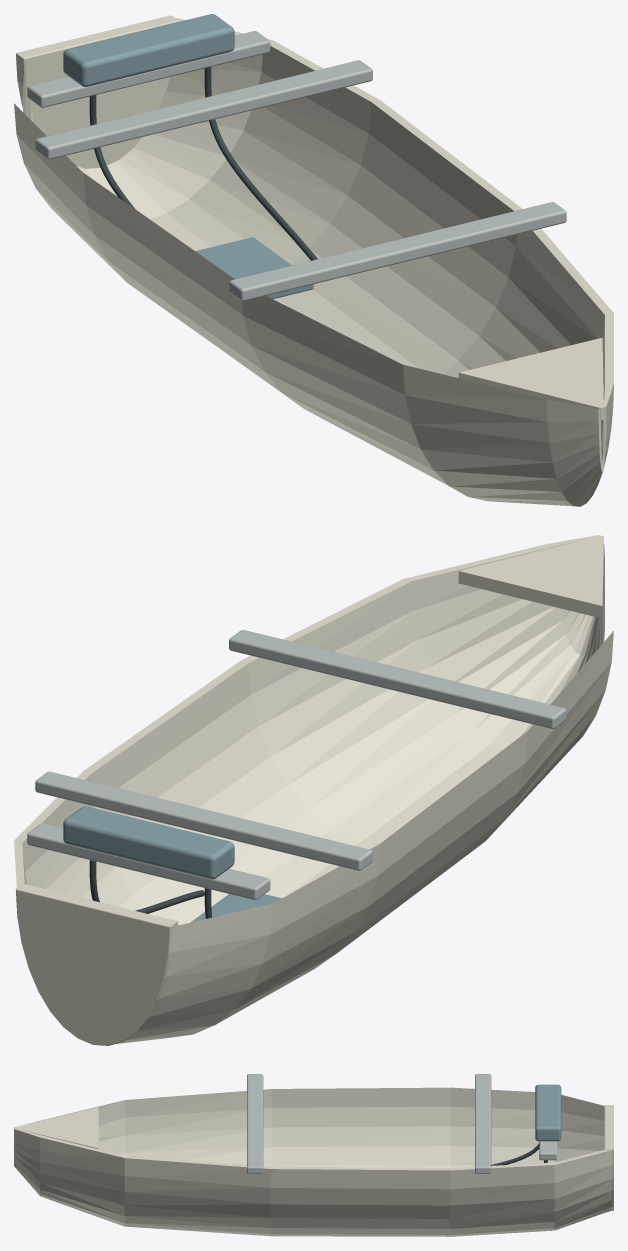
Rendered from abandoned-tidal-model-testing-hall-instrumented-resear-cd098c1a__32357.glb.
3 renders of one model, top to bottom at view 1: azimuth 30°, elevation 25°; view 2: azimuth 150°, elevation 25°; view 3: azimuth 270°, elevation 25°, orthographic. The views are drawn at different scales.
Visible parts, largest first — view 1: instrumented-research-hull-model; view 2: instrumented-research-hull-model; view 3: instrumented-research-hull-model.
Boxes of the visible parts, box(x1,y1,x2,y2) form: instrumented-research-hull-model: box(14, 14, 613, 506); instrumented-research-hull-model: box(14, 535, 613, 1045); instrumented-research-hull-model: box(14, 1074, 613, 1236).
Size of the model in its own units: 0.68 by 0.415 by 1.84.
